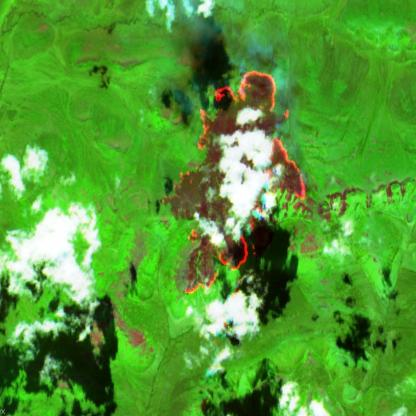fire: (158, 65, 309, 298)
